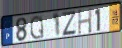1: (51, 12, 61, 39), (94, 7, 101, 33)
8: (14, 16, 28, 42)
H: (77, 7, 93, 36)
Q: (29, 14, 45, 40)
Z: (61, 11, 78, 38)
